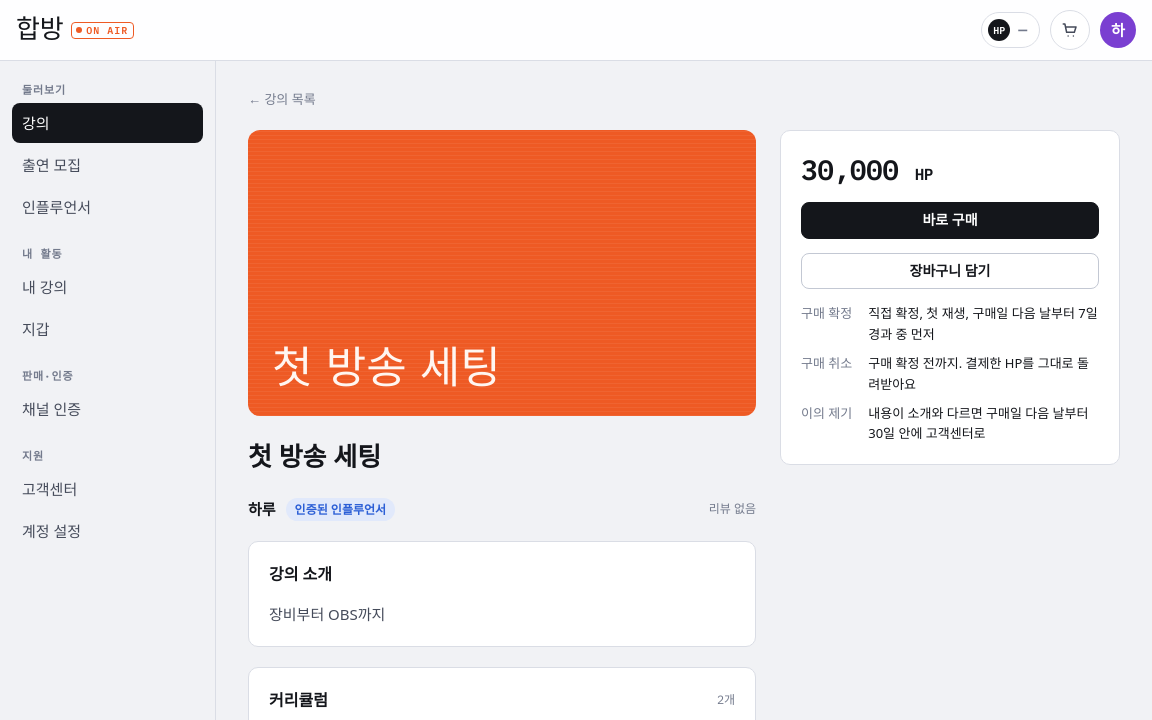
바로 구매 › 지갑 조회에 실패하면 결제를 막고 다시 시도할 수 있다
Click the button "바로 구매" at (950, 220), box [801,202,1099,239]
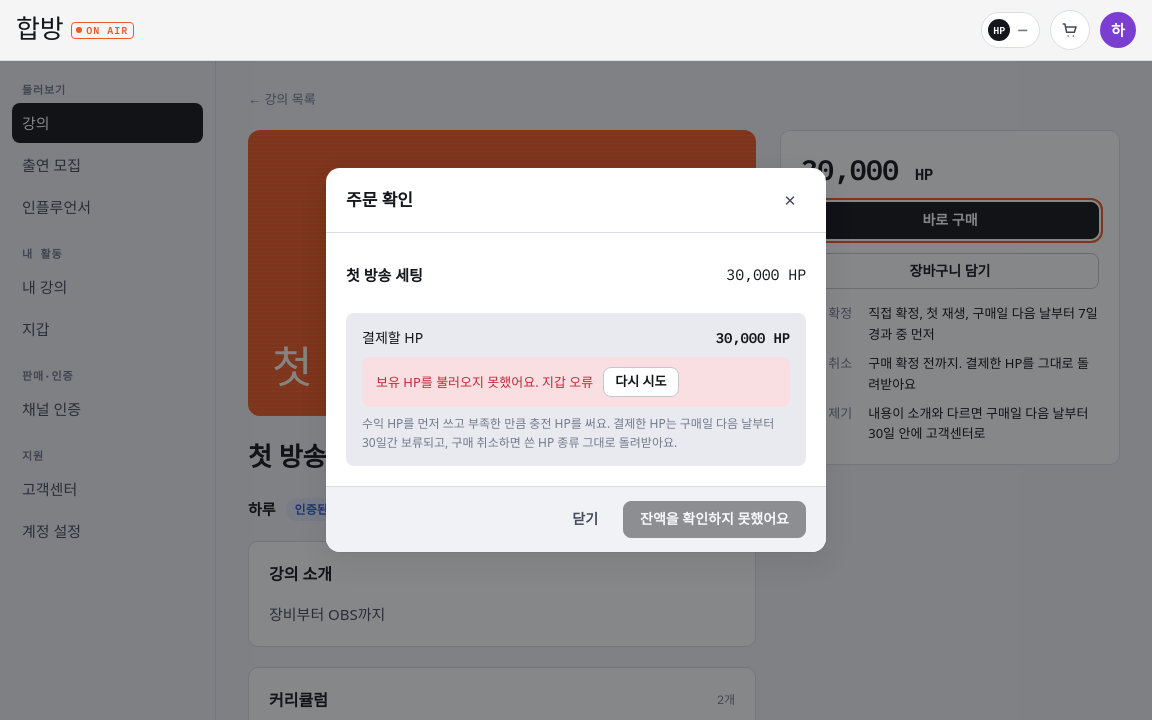
Expected: the message shows "보유 HP를 불러오지 못했어요. 지갑 오류", [362,357,790,407]
Expected: the button "잔액을 확인하지 못했어요" is disabled, [623,501,806,538]
Click the button "다시 시도" at (641, 382), box [603,367,678,397]
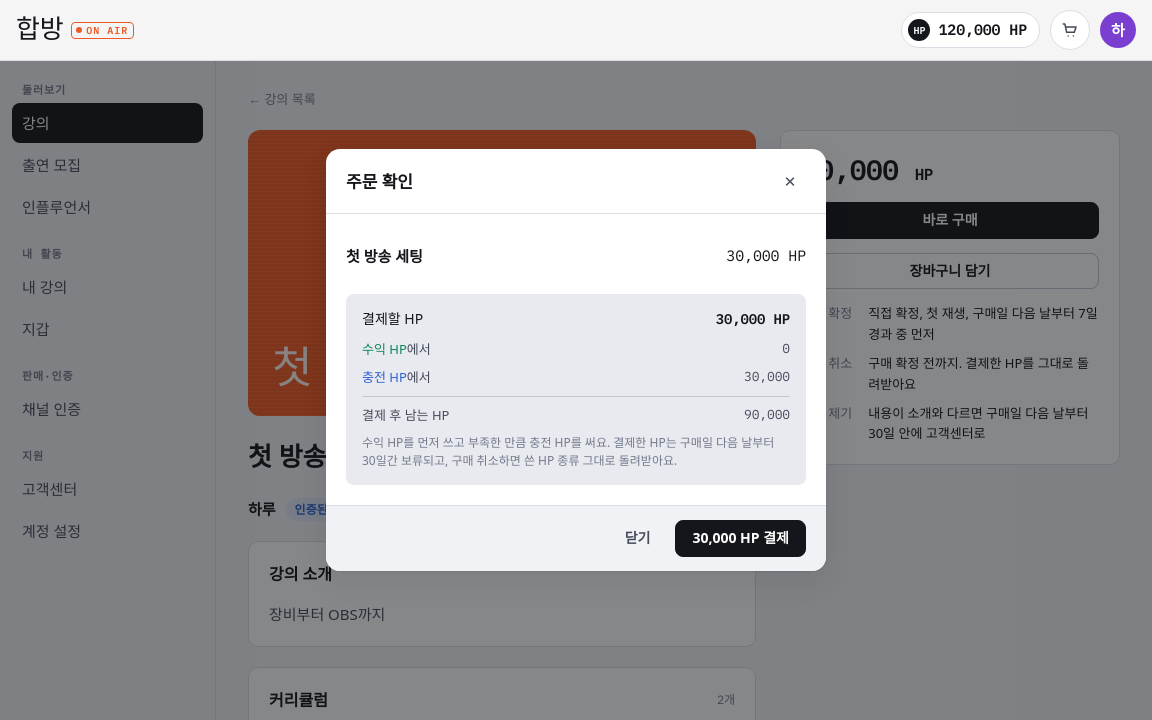
Expected: the button "30,000 HP 결제" is enabled, [675,520,806,557]
